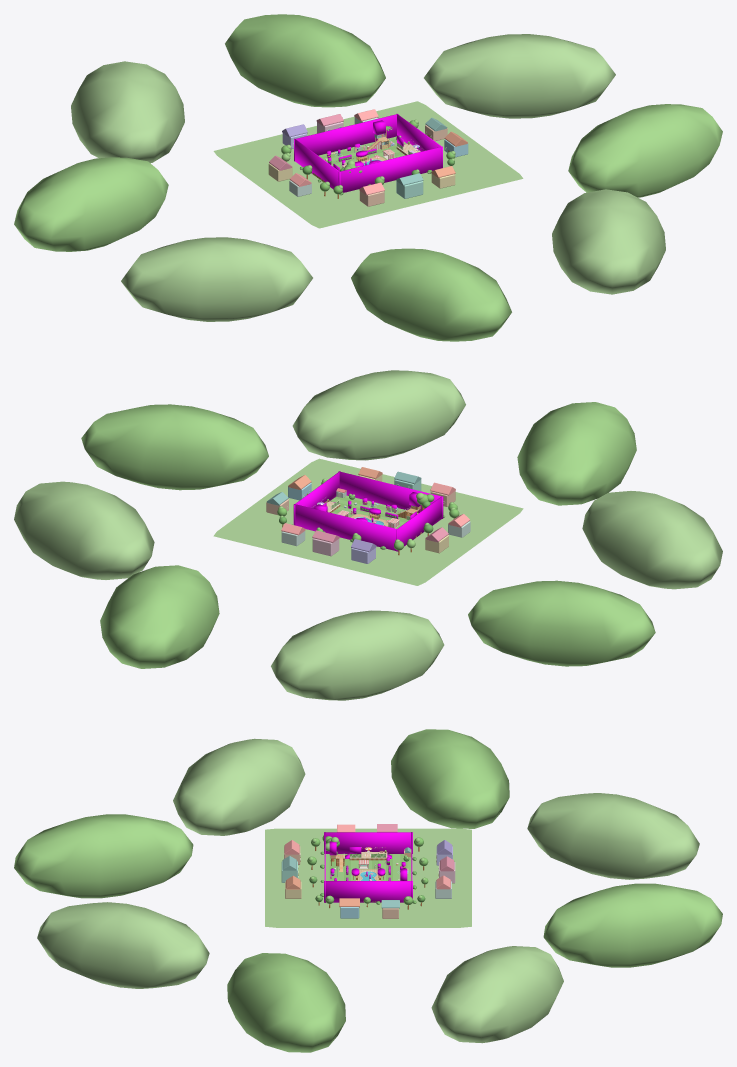
Rendered from map_backyard.glb.
3 renders of one model, top to bottom at view 1: azimuth 30°, elevation 25°; view 2: azimuth 150°, elevation 25°; view 3: azimuth 270°, elevation 25°, orthographic. The views are drawn at different scales.
Parts seen in each view (by area): view 1: nocol_d_A3D68A, nocol_d_B4DC9E, m_B4DC9E, col_helper, nocol_d_FFADAD, nocol_d_F4EAB8, nocol_d_F4D3BA; view 2: nocol_d_A3D68A, nocol_d_B4DC9E, m_B4DC9E, col_helper, nocol_d_FFADAD, nocol_d_D6F0E8; view 3: nocol_d_A3D68A, nocol_d_B4DC9E, m_B4DC9E, col_helper, m_A6D98C, nocol_d_FFADAD, m_9BD080, nocol_d_8CCB74.
Part boxes in pixels (box(x1,y1,x2,y2)): nocol_d_A3D68A: box(14, 14, 722, 341); nocol_d_B4DC9E: box(71, 34, 665, 321); m_B4DC9E: box(213, 101, 523, 228); col_helper: box(294, 114, 442, 192); nocol_d_FFADAD: box(289, 109, 384, 195); nocol_d_F4EAB8: box(268, 163, 455, 188); nocol_d_F4D3BA: box(359, 125, 447, 206); nocol_d_A3D68A: box(81, 402, 655, 668); nocol_d_B4DC9E: box(14, 370, 722, 700); m_B4DC9E: box(213, 458, 523, 585); col_helper: box(293, 471, 443, 551); nocol_d_FFADAD: box(281, 482, 469, 535); nocol_d_D6F0E8: box(281, 521, 470, 546); nocol_d_A3D68A: box(14, 729, 722, 1052); nocol_d_B4DC9E: box(37, 738, 699, 1043); m_B4DC9E: box(265, 828, 471, 927); col_helper: box(324, 832, 412, 902); m_A6D98C: box(325, 854, 411, 880); nocol_d_FFADAD: box(284, 824, 450, 889); m_9BD080: box(329, 854, 407, 880); nocol_d_8CCB74: box(307, 835, 428, 904).
Size of the model in its own units: 302 by 33.45 by 302.
